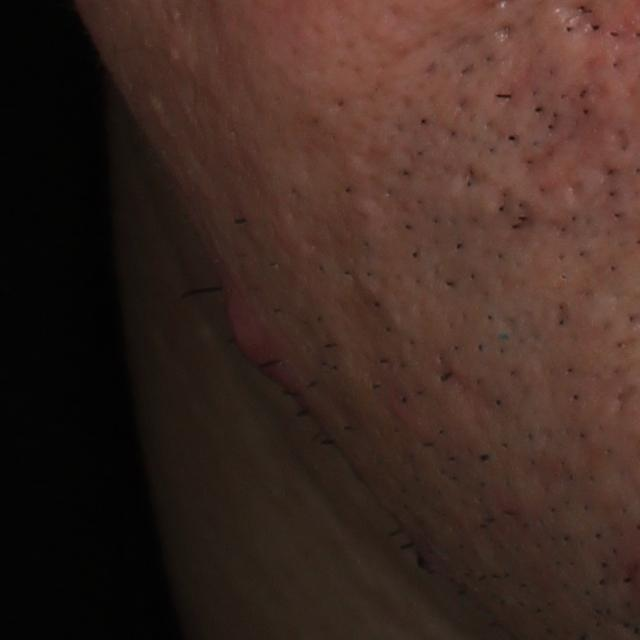atrophic_scar: (421, 347, 509, 426), (490, 21, 513, 43)
papule: (225, 284, 276, 377)
